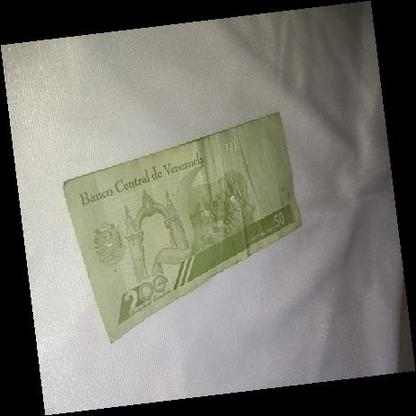fifty-back-vef: (62, 112, 302, 344)
